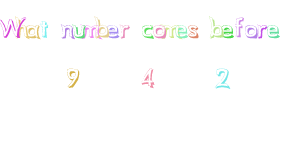2: (214, 67, 232, 89)
4: (140, 67, 156, 89)
9: (66, 67, 80, 88)
W: (1, 16, 20, 38)
a: (25, 24, 41, 39)
b: (209, 15, 223, 39), (94, 16, 108, 39)
c: (141, 24, 153, 39)
e: (267, 24, 281, 39), (106, 23, 119, 38), (175, 24, 188, 38), (221, 24, 234, 38)
f: (233, 15, 244, 37)
h: (15, 17, 28, 39)
m: (82, 23, 99, 39), (163, 24, 180, 38)
n: (60, 23, 75, 39)
o: (244, 24, 258, 38), (153, 24, 166, 38)
r: (119, 23, 130, 39), (257, 23, 267, 39)
s: (187, 23, 199, 38)
t: (40, 20, 49, 38)
u: (72, 23, 86, 38)
